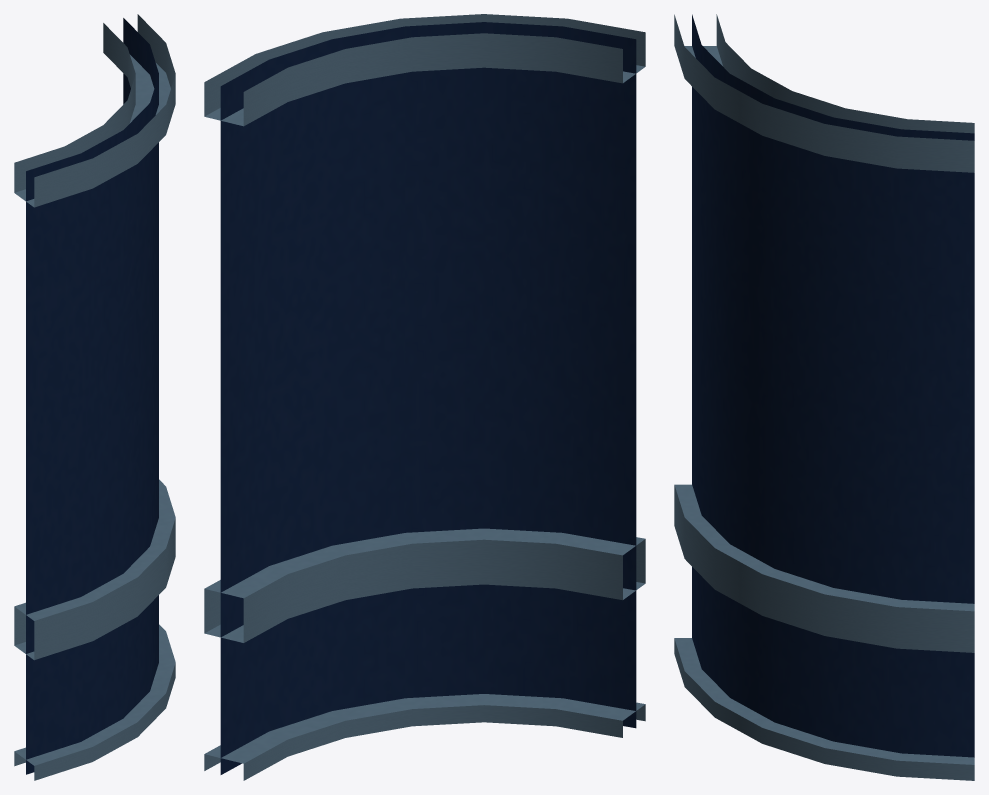
The model's file is cell_7.obj.
3 views of the same model, side by side, from view 1: azimuth 30°, elevation 25°; view 2: azimuth 150°, elevation 25°; view 3: azimuth 270°, elevation 25° (orthographic). The views are drawn at different scales.
Visible parts, largest first — view 1: cell_7; view 2: cell_7; view 3: cell_7.
Boxes of the visible parts, x1,y1,x2,y2 form: cell_7: [14, 14, 175, 780]; cell_7: [204, 14, 645, 780]; cell_7: [674, 14, 974, 780].
Bounding box in the file's own units: 0.425 × 1 × 0.425.
